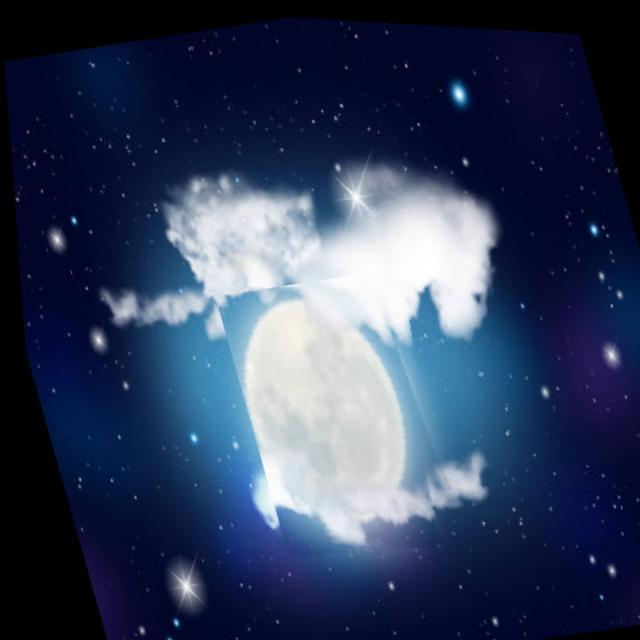moon: (208, 255, 460, 570)
